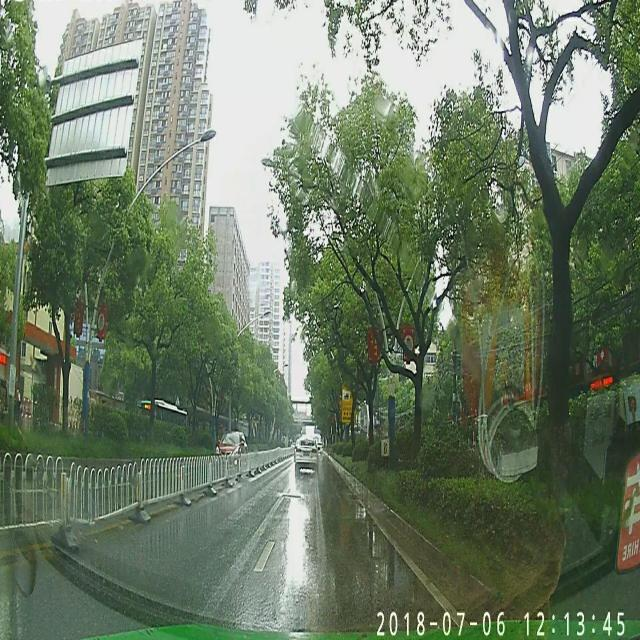car: (216, 430, 247, 470), (294, 436, 316, 473)
